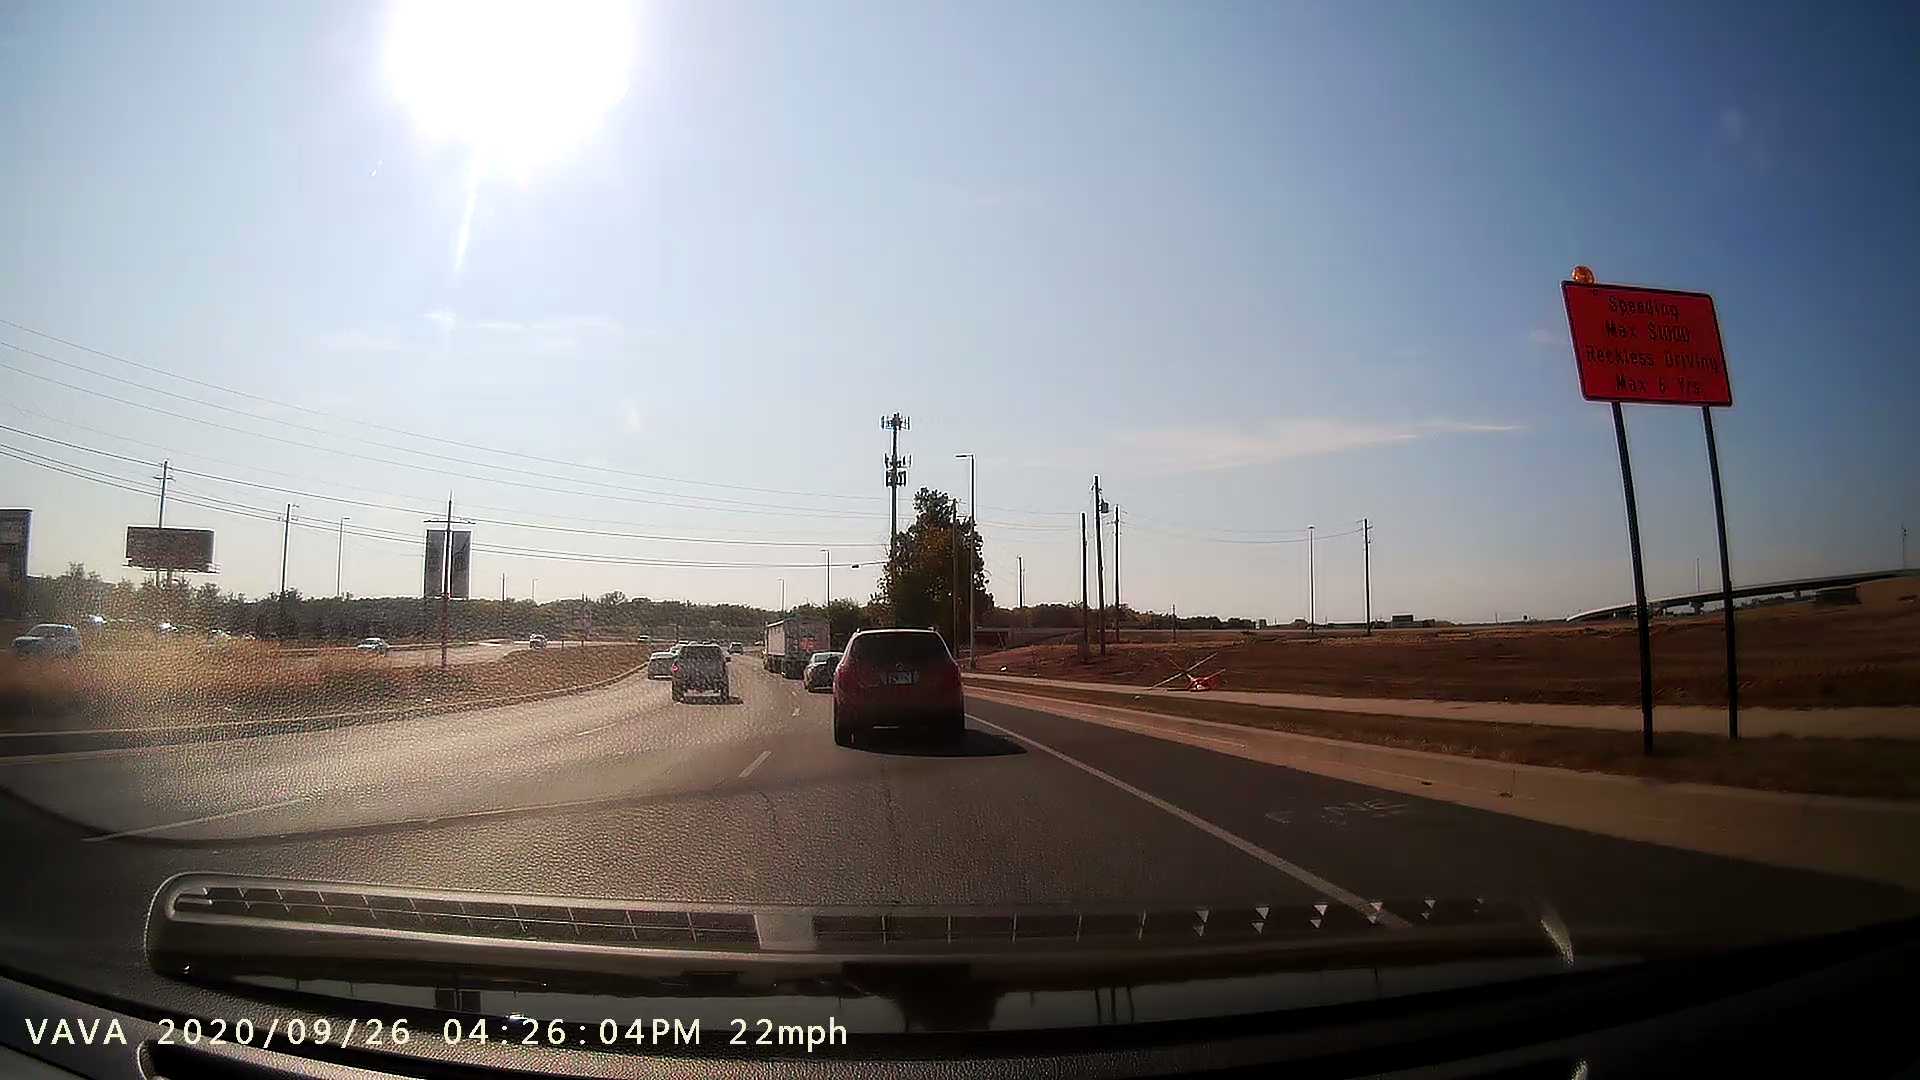temperary_sign: (1543, 243, 1770, 753)
